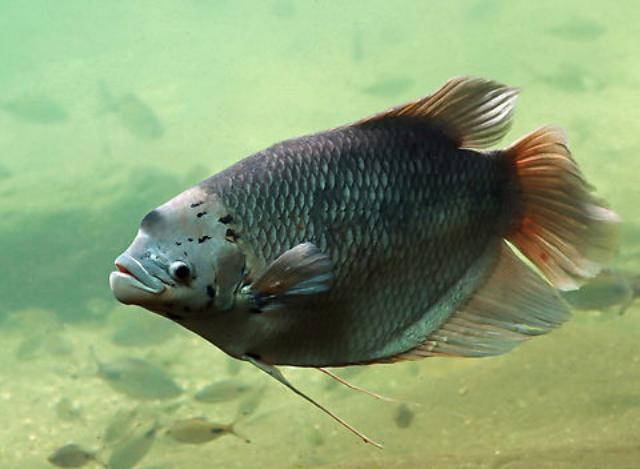Mulut: (84, 235, 184, 330)
Sirip Anal: (362, 236, 588, 374)
Sirip Dada: (225, 231, 355, 334)
Sirip Ekor: (488, 111, 636, 306)
Sirip Punggung: (363, 60, 531, 158)
